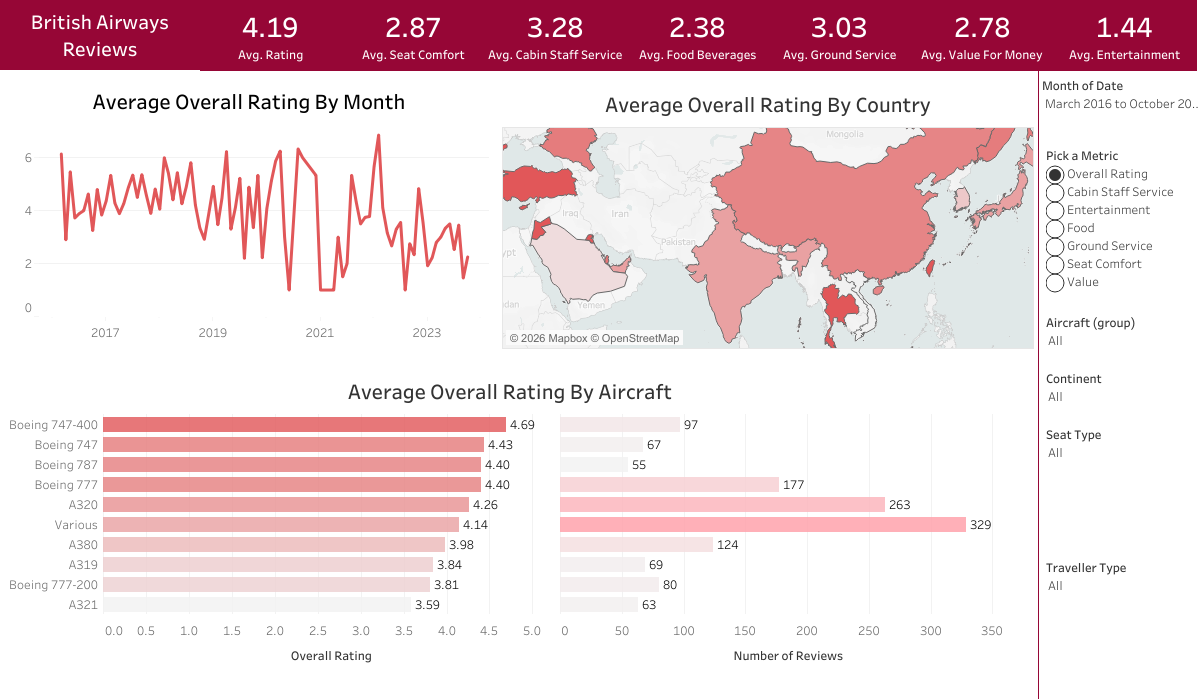

This screenshot's page, from the dashboard's own definition file:
{"tool":"tableau","page":{"name":"Dashboard","canvas":[1200,700],"ordinal":0},"visuals":[{"type":"text","box":[0,0,200,70]},{"type":"worksheet","title":"Summary","mark":"Automatic","box":[200,0,996,70]},{"type":"blank","box":[1038,69,1,633]},{"type":"filter","title":"MAP","param":"[federated.0s5786b0x72g6q10gkxan1t226x3].[tmn:date:qk]","box":[1042,75,160,61]},{"type":"worksheet","title":"Month","mark":"Automatic","rows":["Calculation_0730402021687297"],"cols":["date"],"box":[9,81,480,265]},{"type":"worksheet","title":"MAP","mark":"Automatic","box":[502,84,532,265]},{"type":"parameter","param":"[Parameters].[Parameter 0730402020646912]","box":[1042,141,156,165]},{"type":"filter","title":"MAP","param":"[federated.0s5786b0x72g6q10gkxan1t226x3].[Aircraft (group)]","box":[1042,306,156,52]},{"type":"filter","title":"MAP","param":"[federated.0s5786b0x72g6q10gkxan1t226x3].[none:Continent:nk]","box":[1042,358,156,52]},{"type":"filter","title":"MAP","param":"[federated.0s5786b0x72g6q10gkxan1t226x3].[none:seat_type:nk]","box":[1042,410,156,127]},{"type":"filter","title":"MAP","param":"[federated.0s5786b0x72g6q10gkxan1t226x3].[none:traveller_type:nk]","box":[1042,537,156,146]}]}

Visuals, with their boxes in screenshot pixels (x1, y1, x2, y2), scaled from the page's 1200x700 canvas onto the 1199x699 screenshot:
text: <box>0,0,200,70</box>
"Summary" worksheet: <box>200,0,1195,70</box>
blank: <box>1037,69,1038,698</box>
"MAP" filter: <box>1041,75,1198,136</box>
"Month" worksheet: <box>9,81,489,346</box>
"MAP" worksheet: <box>502,84,1033,349</box>
parameter: <box>1041,141,1197,306</box>
"MAP" filter: <box>1041,306,1197,357</box>
"MAP" filter: <box>1041,357,1197,409</box>
"MAP" filter: <box>1041,409,1197,536</box>
"MAP" filter: <box>1041,536,1197,682</box>
